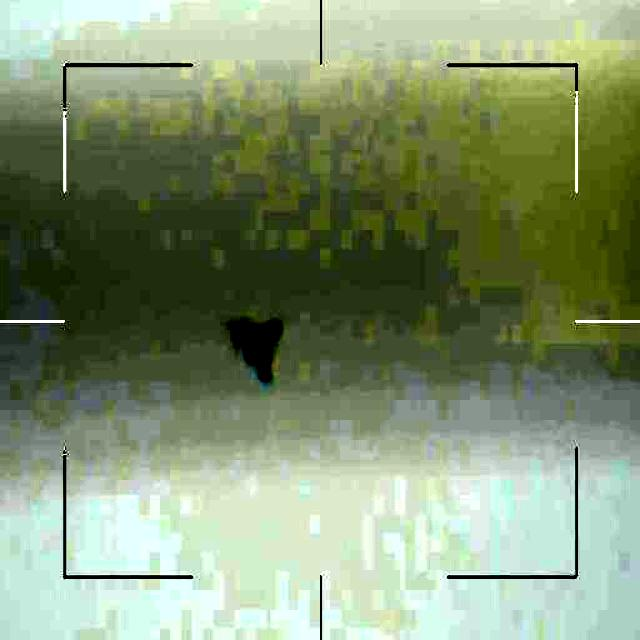bird: (229, 318, 290, 385)
